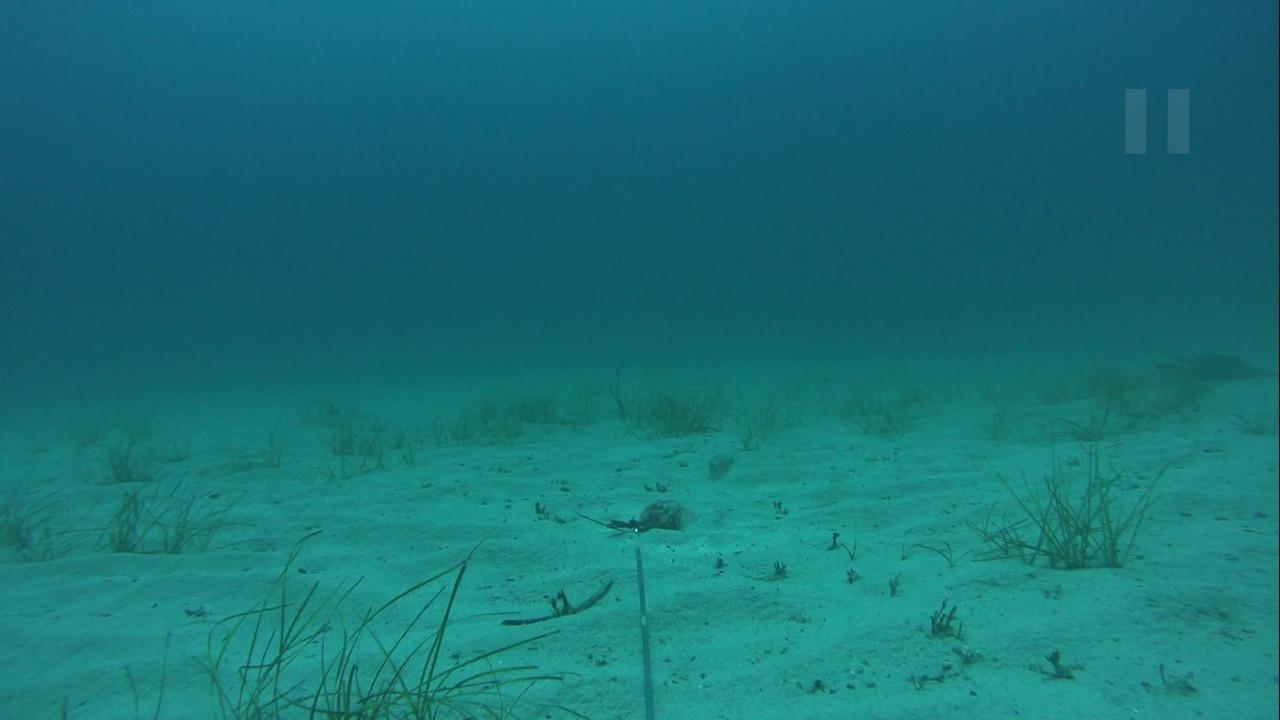myliobatis: (1121, 333, 1270, 389)
raor: (696, 439, 743, 492)
